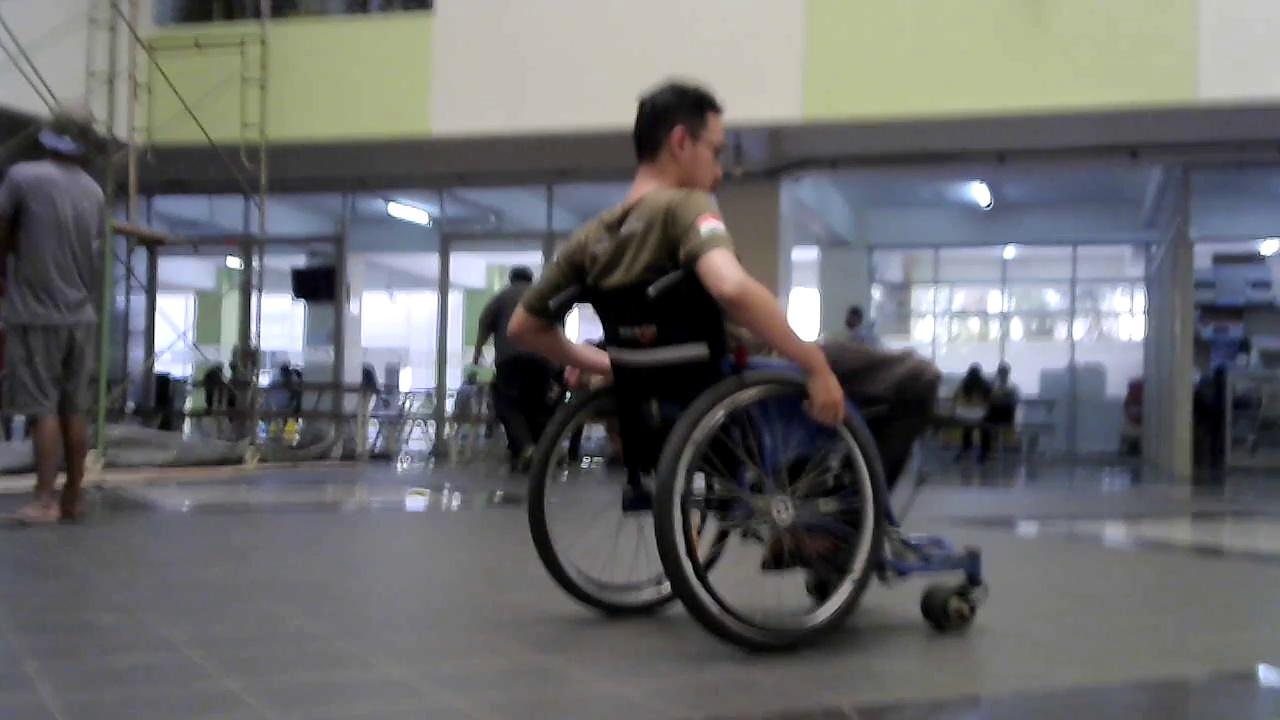person: (494, 78, 850, 487), (0, 124, 109, 527), (954, 362, 992, 464)
wheelchair: (488, 260, 1021, 668)
